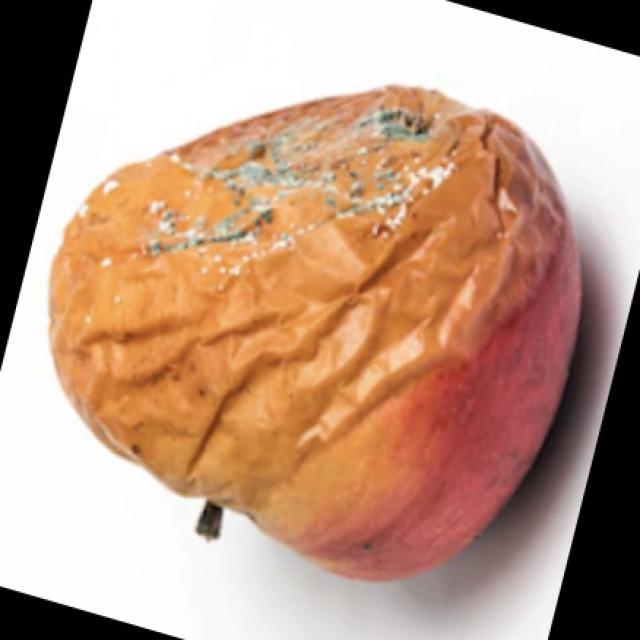Rotten: (83, 77, 590, 605)
